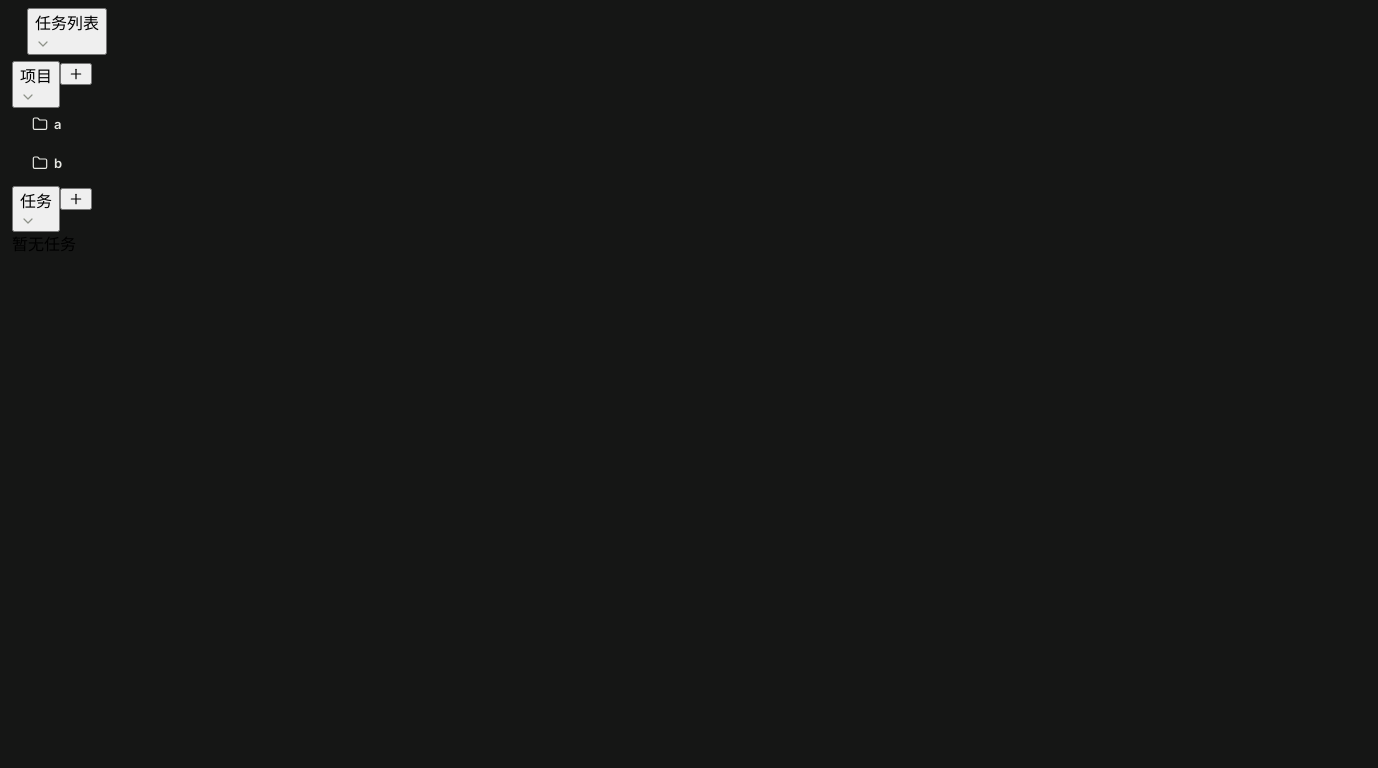
opens the existing project menu from a right click without folding or opening a session
Right-click the list item "b".
right_click(47, 163)  # box [32,155,62,171]
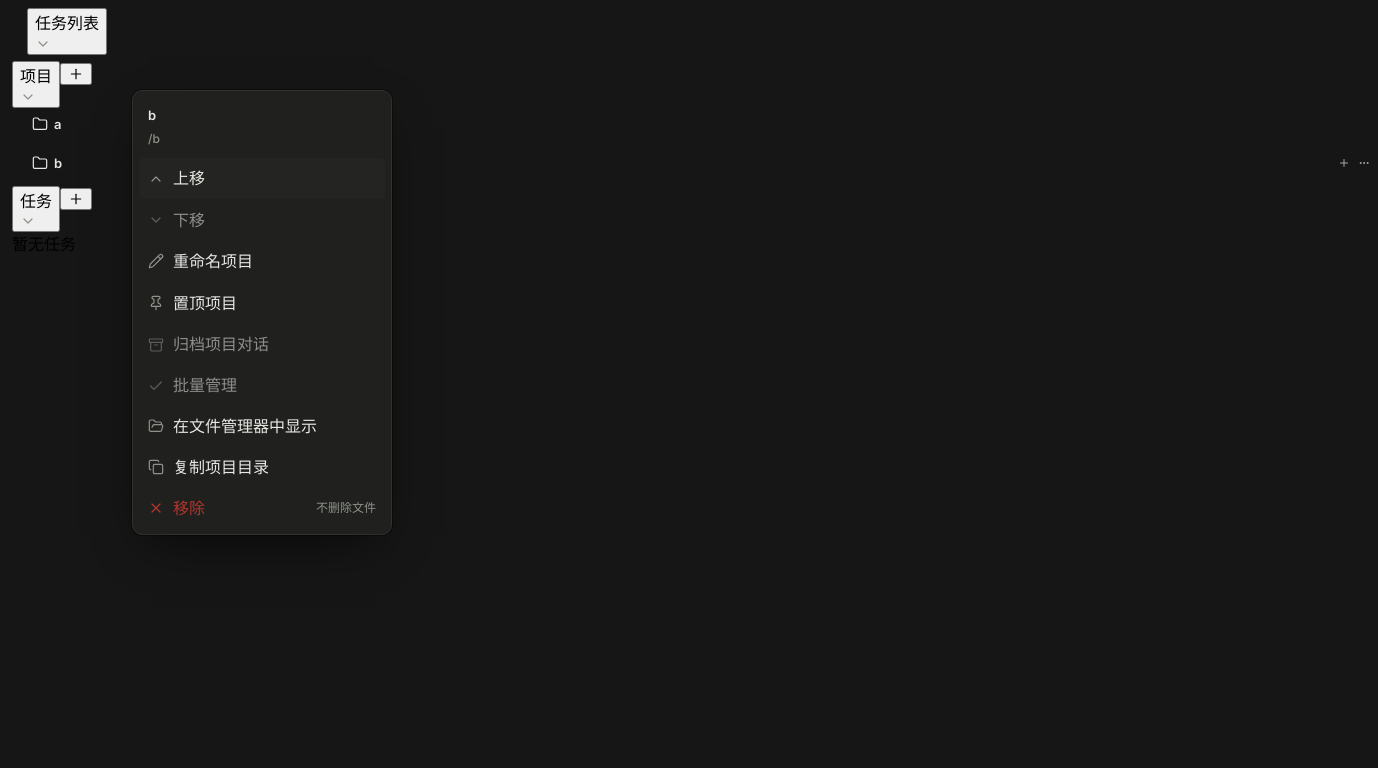
Expected: the menu named "项目操作" is shown, [132,90,392,536]
Expected: the menu item "重命名项目" is shown, [139,241,385,282]
Expected: the menu item "在文件管理器中显示" is shown, [139,406,385,447]
